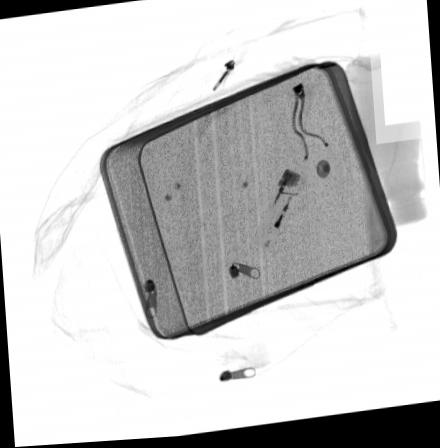Lighter: (250, 172, 306, 256)
